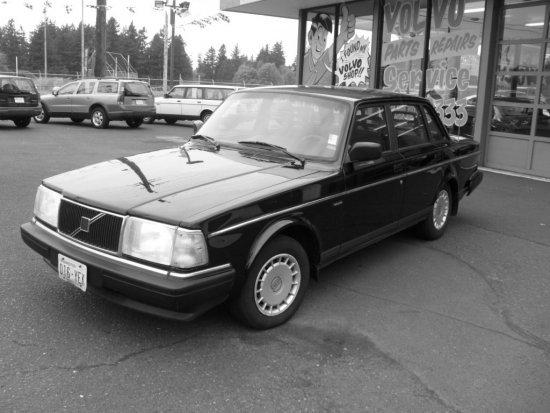car: (18, 81, 485, 334)
